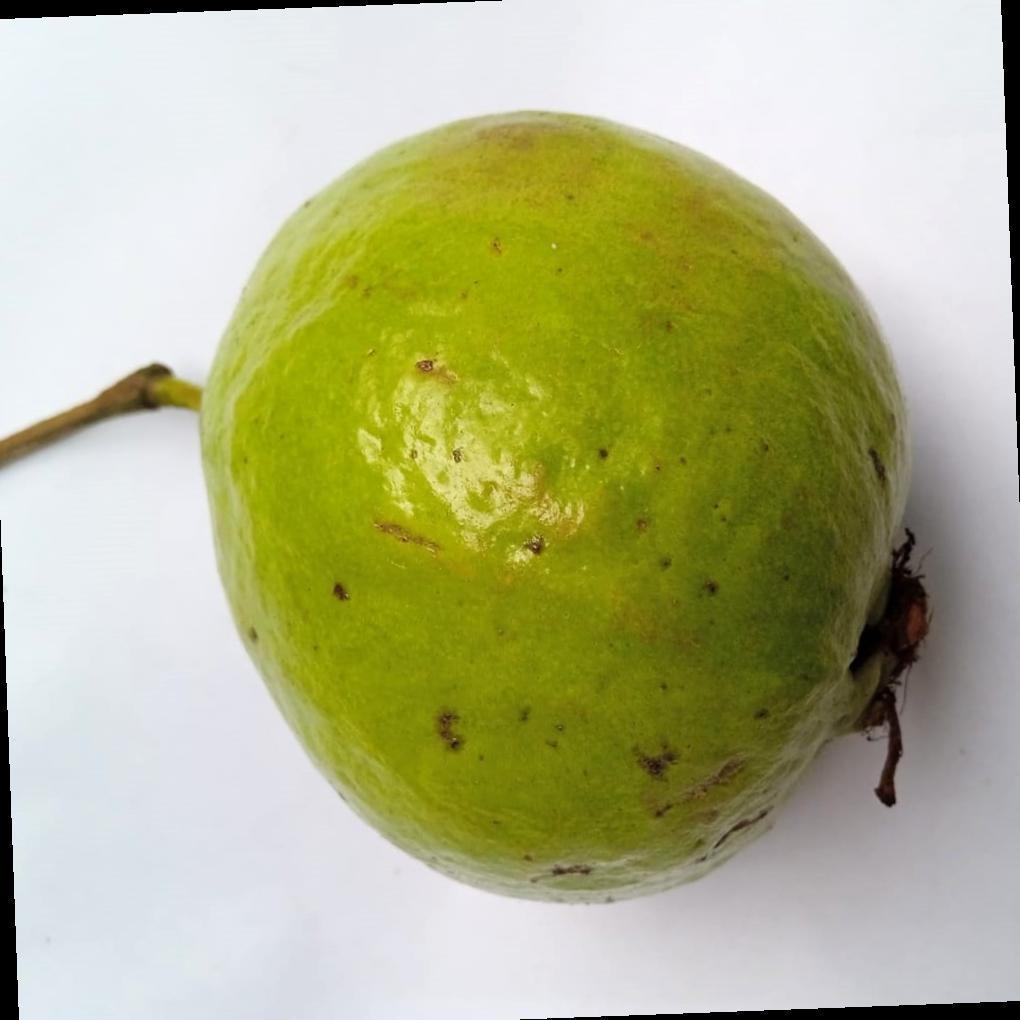FreshGuava: (196, 110, 929, 909)
